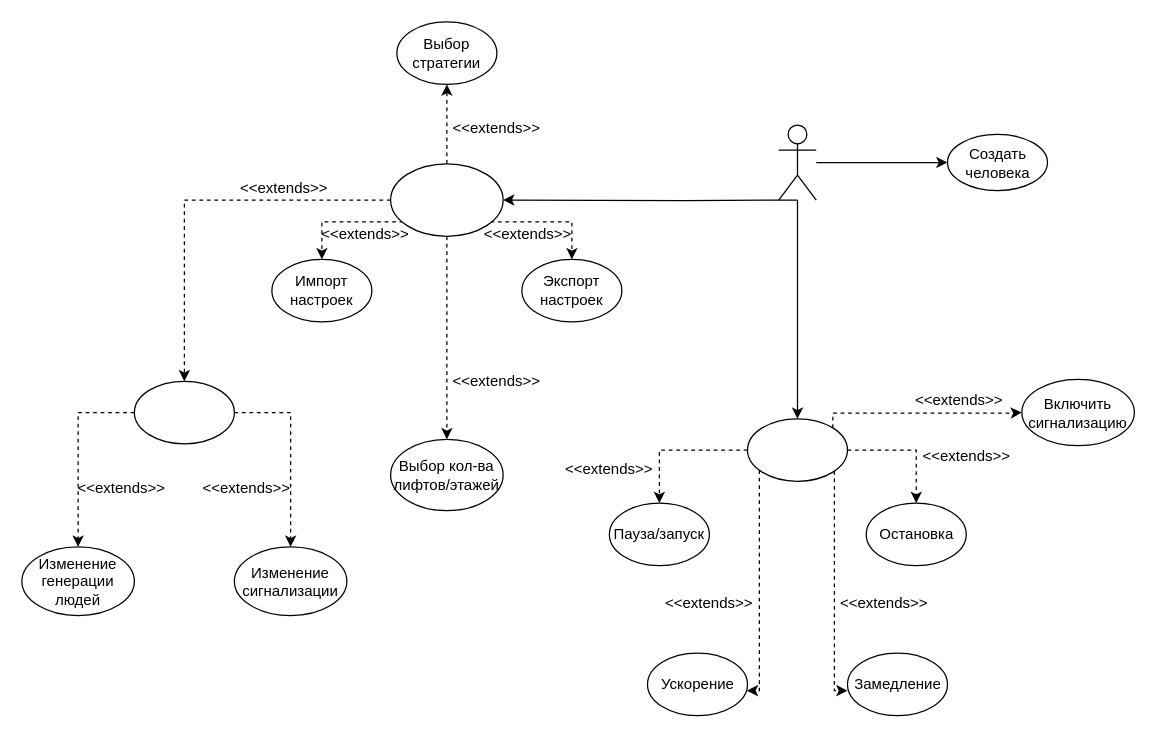
The diagram is 1156 pixels wide and 738 high, and some of its shapes have lost their labels. The shapes that lost their labels are listed below. From the top down, each one's box as (x1, y1, x2, y2) in pixels, then its label:
(778, 124, 816, 200): Пользователь
(389, 162, 503, 236): Настройка программы
(133, 380, 234, 444): Настройка сценария
(746, 418, 848, 481): Старт
